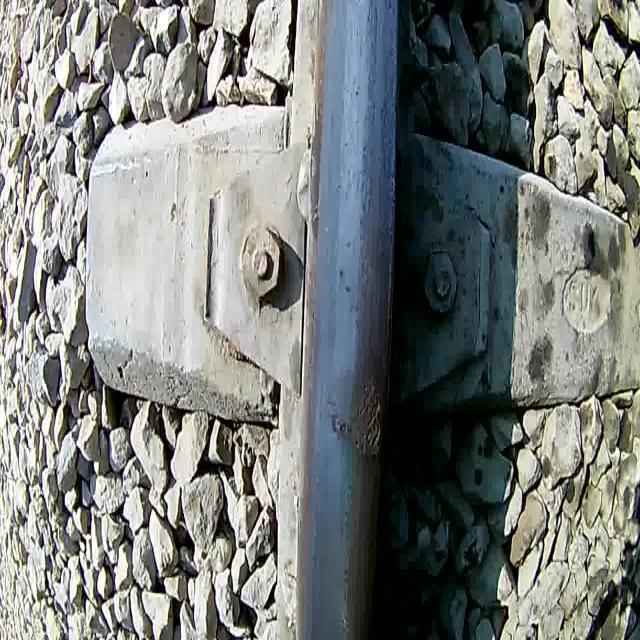Spallings: (353, 368, 384, 462)
Squats: (324, 391, 350, 445)
